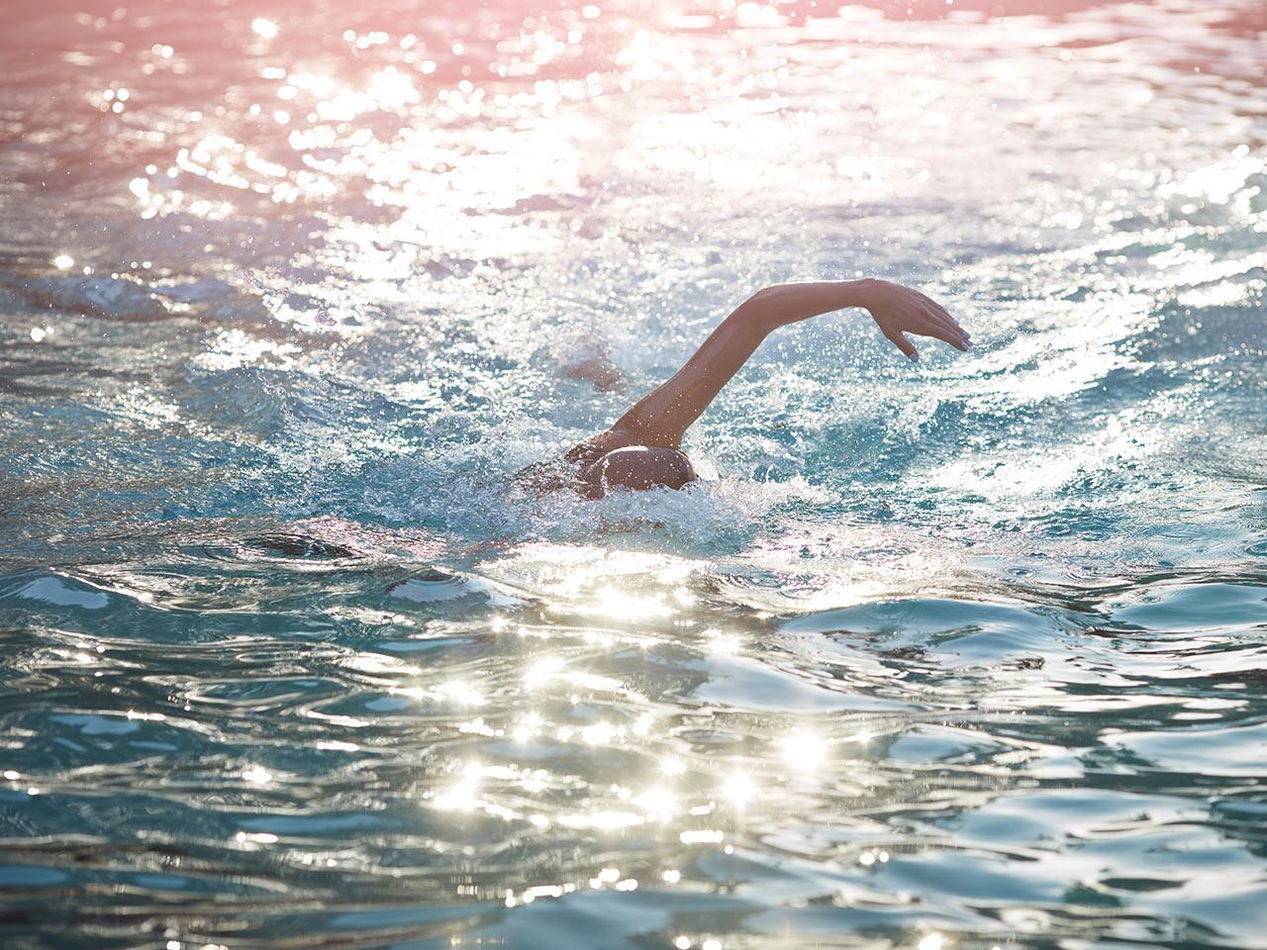human: (542, 260, 982, 516)
